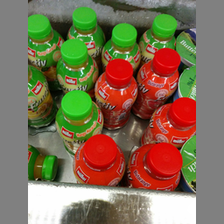juice: (53, 89, 104, 158), (133, 47, 180, 119), (93, 59, 139, 131), (126, 142, 184, 191), (140, 97, 196, 145)
